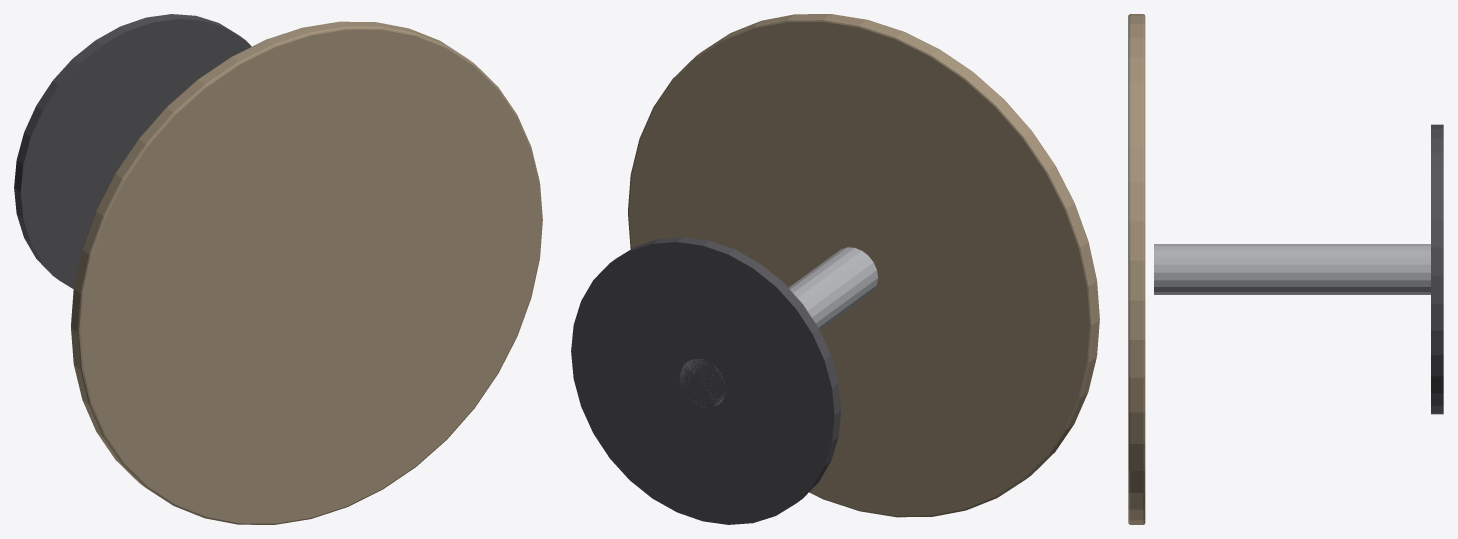
Rendered from break_table.glb.
3 views of the same model, side by side, from view 1: azimuth 30°, elevation 25°; view 2: azimuth 150°, elevation 25°; view 3: azimuth 270°, elevation 25° (orthographic). The views are drawn at different scales.
Visible parts, largest first — view 1: break_table_top, break_table_foot; view 2: break_table_top, break_table_foot, break_table_column; view 3: break_table_column, break_table_top, break_table_foot.
Boxes of the visible parts, x1,y1,x2,y2 form: break_table_top: (71, 21, 542, 524); break_table_foot: (14, 14, 251, 288); break_table_top: (628, 14, 1099, 517); break_table_foot: (571, 237, 841, 524); break_table_column: (679, 247, 877, 407); break_table_column: (1154, 244, 1430, 294); break_table_top: (1128, 14, 1145, 524); break_table_foot: (1431, 124, 1443, 414).
Bounding box in the file's own units: 1.2 × 1.2 × 0.74.
